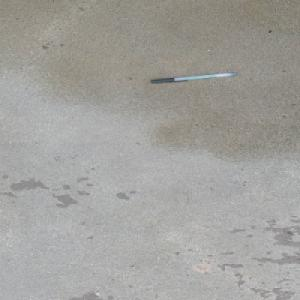Pen: (148, 71, 236, 84)
